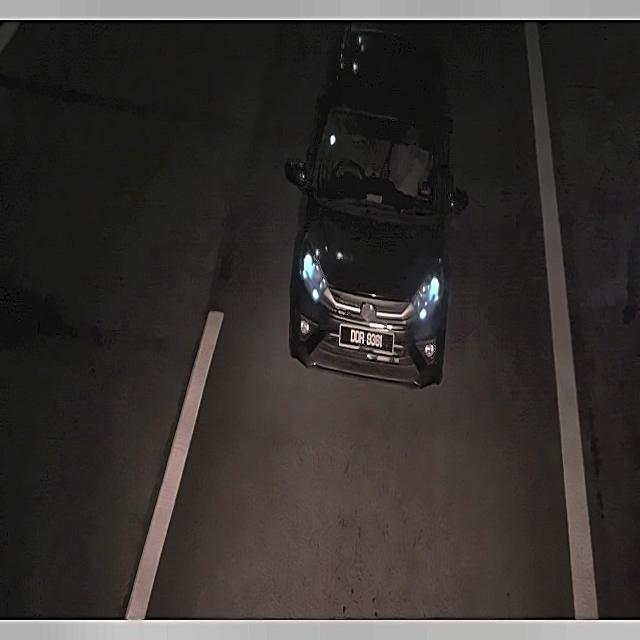car: (332, 313, 403, 362)
